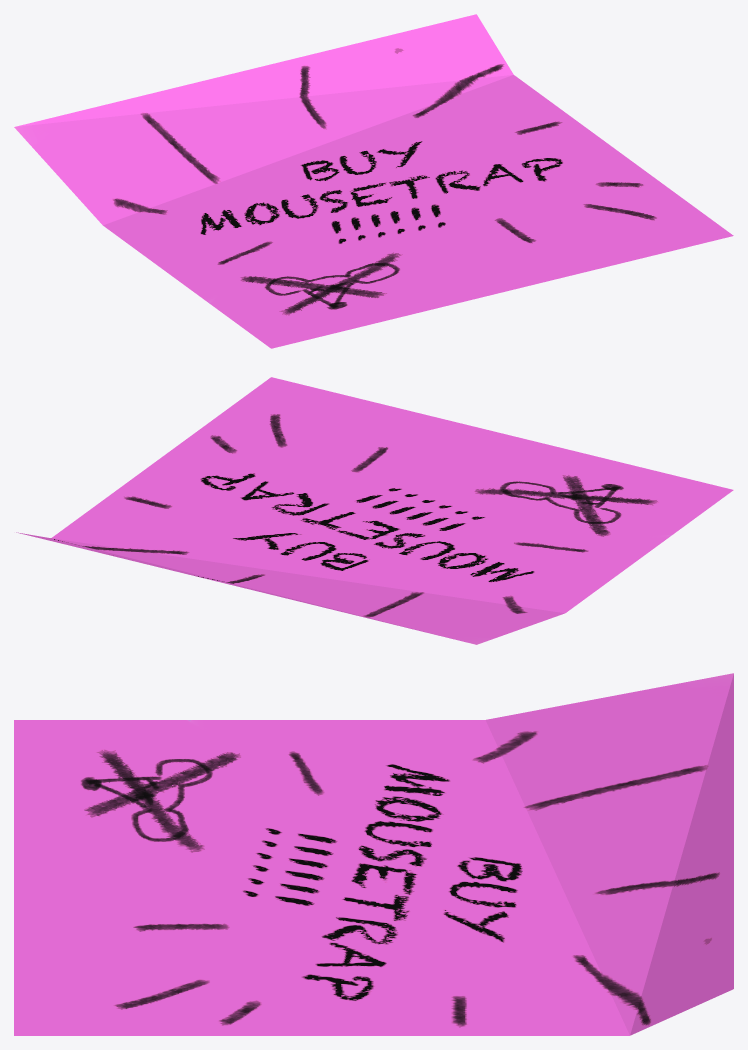
Rendered from PostIt01.glb.
3 renders of one model, top to bottom at view 1: azimuth 30°, elevation 25°; view 2: azimuth 150°, elevation 25°; view 3: azimuth 270°, elevation 25°, orthographic. The views are drawn at different scales.
Visible parts, largest first — view 1: PostIt; view 2: PostIt; view 3: PostIt.
Part boxes in pixels (x1,y1,x2,y2): PostIt: [14, 14, 733, 348]; PostIt: [16, 377, 733, 644]; PostIt: [14, 673, 733, 1035].
Size of the model in its own units: 0.0886 by 0.00612 by 0.0854.
1 material, 1 textured.
